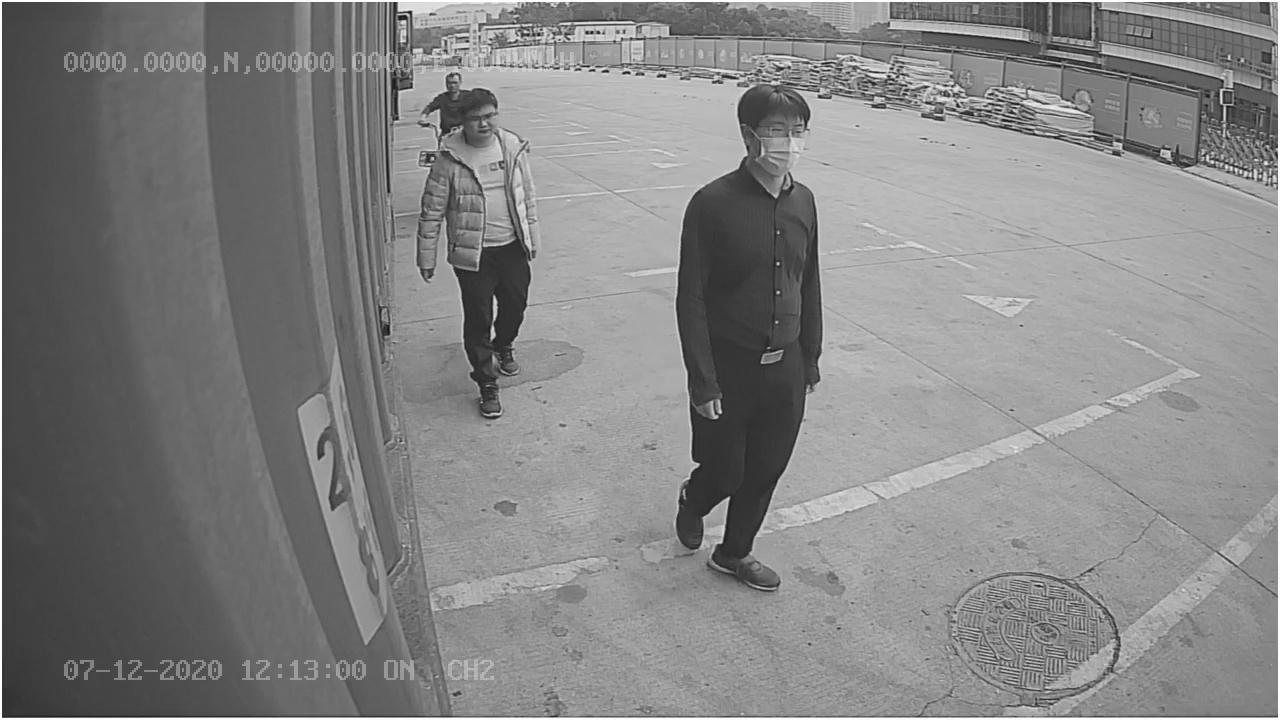person: (672, 66, 827, 595)
